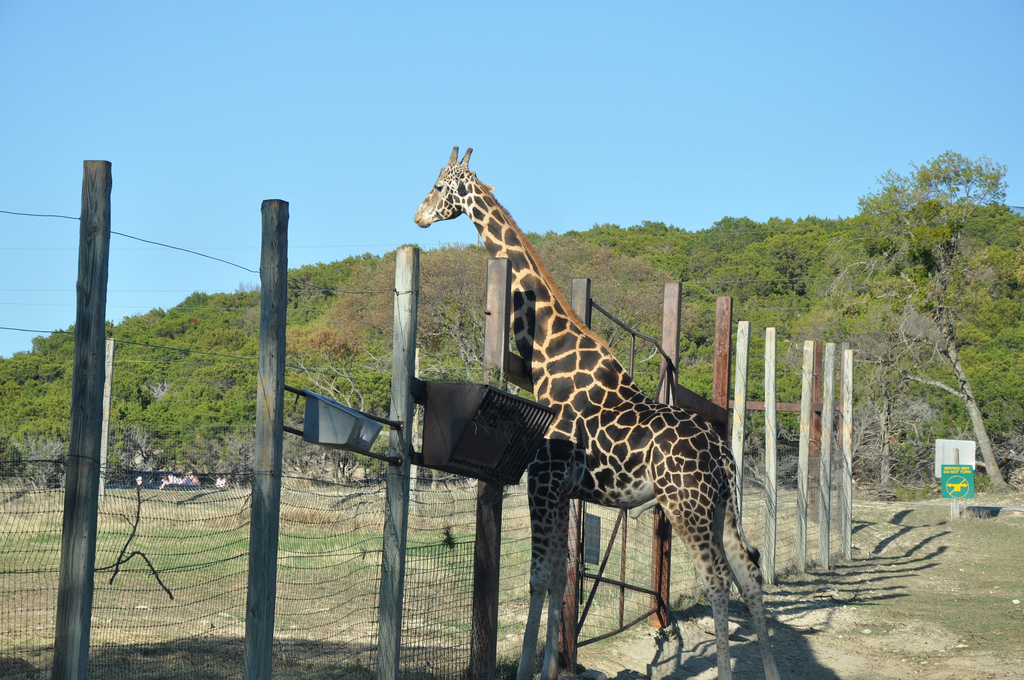giraffe: (405, 143, 793, 672)
